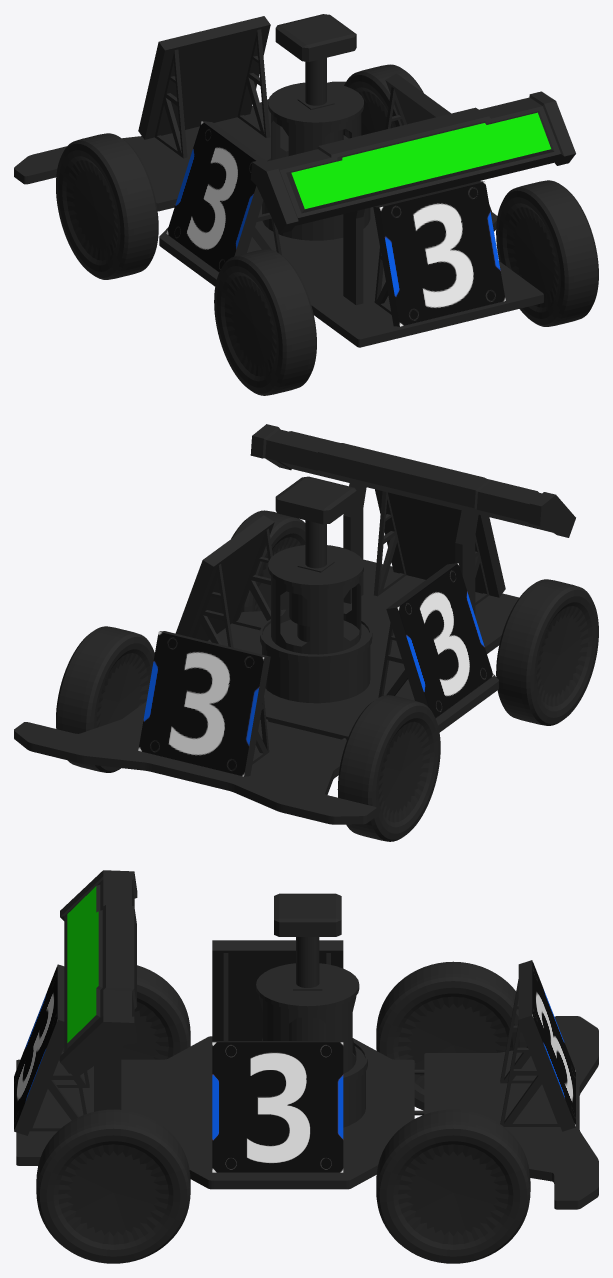
File: CarBlue.glb
The picture shows the model from 3 angles, top to bottom: view 1: azimuth 30°, elevation 25°; view 2: azimuth 150°, elevation 25°; view 3: azimuth 270°, elevation 25°; orthographic projection. The views are drawn at different scales.
Visible parts, largest first — view 1: Cylinder.001, Cube.003, Cylinder, plate_front.001, Cube.002, plate_front.002, plate_front, Cube.001, Cylinder.003, Cube.011, Cube.004, Plane.001 (+4 smaller); view 2: Cylinder, Cube.001, plate_front, Cylinder.001, Cube.003, Cube.002, plate_front.002, Cylinder.003, Cylinder.002, plate_front.001, plate_front.003, Cube.004 (+7 smaller); view 3: Cylinder, Cylinder.001, Cube.002, plate_front.003, Cube.001, Cube.003, plate_front.002, Cylinder.003, plate_front, plate_front.001, Cube.011, Plane.001 (+7 smaller).
Boxes of the visible parts, bbox=[...] form: Cylinder.001: bbox=[214, 180, 598, 395]; Cube.003: bbox=[250, 91, 575, 233]; Cylinder: bbox=[56, 64, 423, 279]; plate_front.001: bbox=[373, 181, 505, 326]; Cube.002: bbox=[159, 203, 543, 347]; plate_front.002: bbox=[166, 121, 263, 272]; plate_front: bbox=[138, 16, 270, 139]; Cube.001: bbox=[14, 81, 348, 211]; Cylinder.003: bbox=[268, 82, 363, 160]; Cube.011: bbox=[275, 14, 356, 61]; Cube.004: bbox=[343, 209, 364, 305]; Plane.001: bbox=[237, 29, 270, 138]; Cylinder: bbox=[56, 626, 440, 841]; Cube.001: bbox=[14, 701, 376, 824]; plate_front: bbox=[138, 631, 270, 776]; Cylinder.001: bbox=[231, 510, 598, 725]; Cube.003: bbox=[250, 424, 575, 537]; Cube.002: bbox=[208, 559, 518, 740]; plate_front.002: bbox=[386, 563, 493, 718]; Cylinder.003: bbox=[268, 545, 363, 654]; Cylinder.002: bbox=[260, 612, 372, 703]; plate_front.001: bbox=[375, 489, 505, 597]; plate_front.003: bbox=[175, 515, 274, 641]; Cube.004: bbox=[343, 478, 478, 615]; Cylinder: bbox=[376, 961, 530, 1263]; Cylinder.001: bbox=[36, 965, 190, 1263]; Cube.002: bbox=[16, 1036, 414, 1189]; plate_front.003: bbox=[212, 1041, 343, 1172]; Cube.001: bbox=[424, 1016, 598, 1209]; Cube.003: bbox=[60, 870, 137, 1078]; plate_front.002: bbox=[212, 940, 343, 1040]; Cylinder.003: bbox=[256, 963, 359, 1073]; plate_front: bbox=[518, 960, 575, 1131]; plate_front.001: bbox=[14, 964, 64, 1135]; Cube.011: bbox=[274, 893, 341, 936]; Plane.001: bbox=[500, 1020, 560, 1126].
Bounding box in the file's own units: 0.45 × 0.3138 × 0.6025.
Materials: 3 (1 with a texture image).
